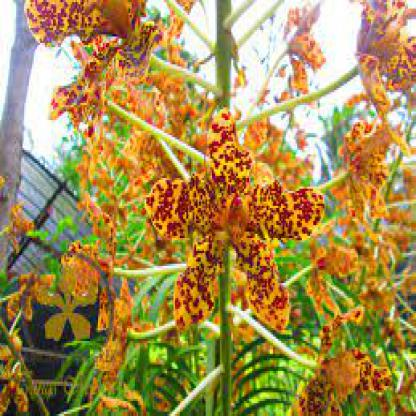ANGGREK: (22, 14, 391, 355)
